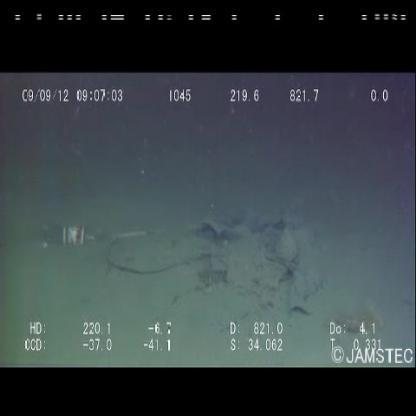Rác: (31, 215, 100, 258)
